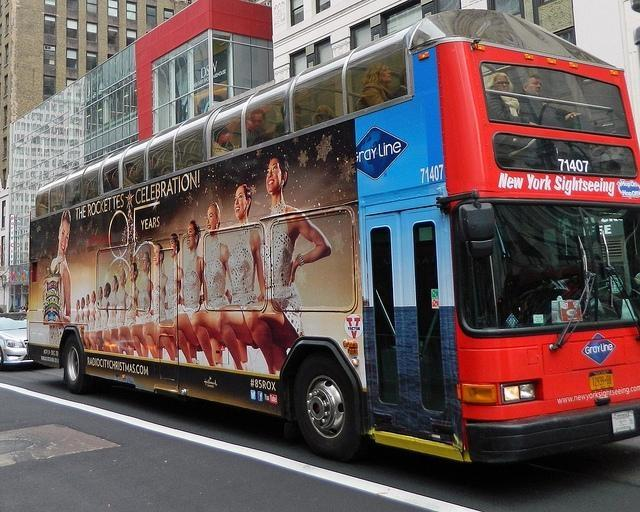bus: (24, 7, 638, 467)
car: (0, 316, 34, 365)
